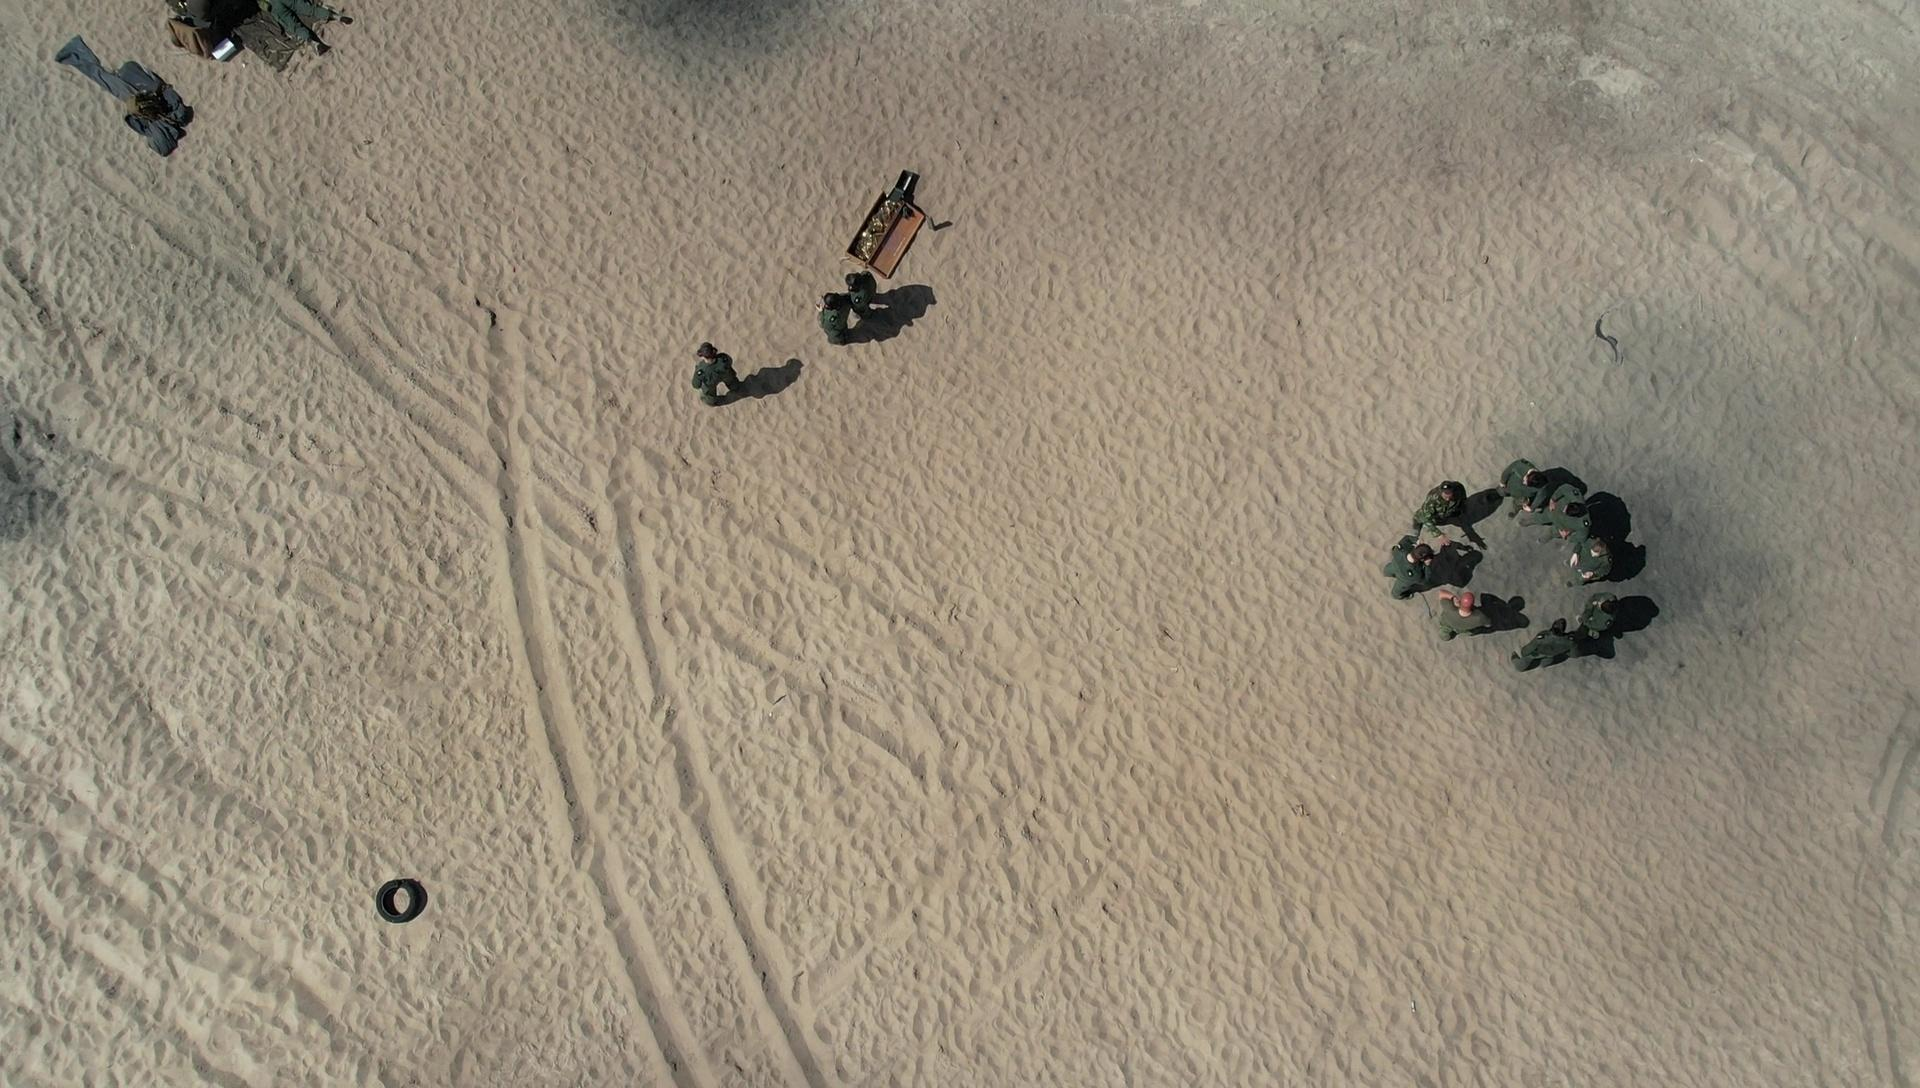Soldier: (1422, 568, 1510, 663), (1502, 616, 1596, 699), (1411, 467, 1491, 543), (678, 331, 745, 411), (1569, 530, 1636, 592), (1542, 476, 1606, 538), (1379, 531, 1429, 609), (835, 262, 890, 327), (1494, 454, 1553, 512), (1572, 589, 1633, 641), (803, 287, 851, 344)
